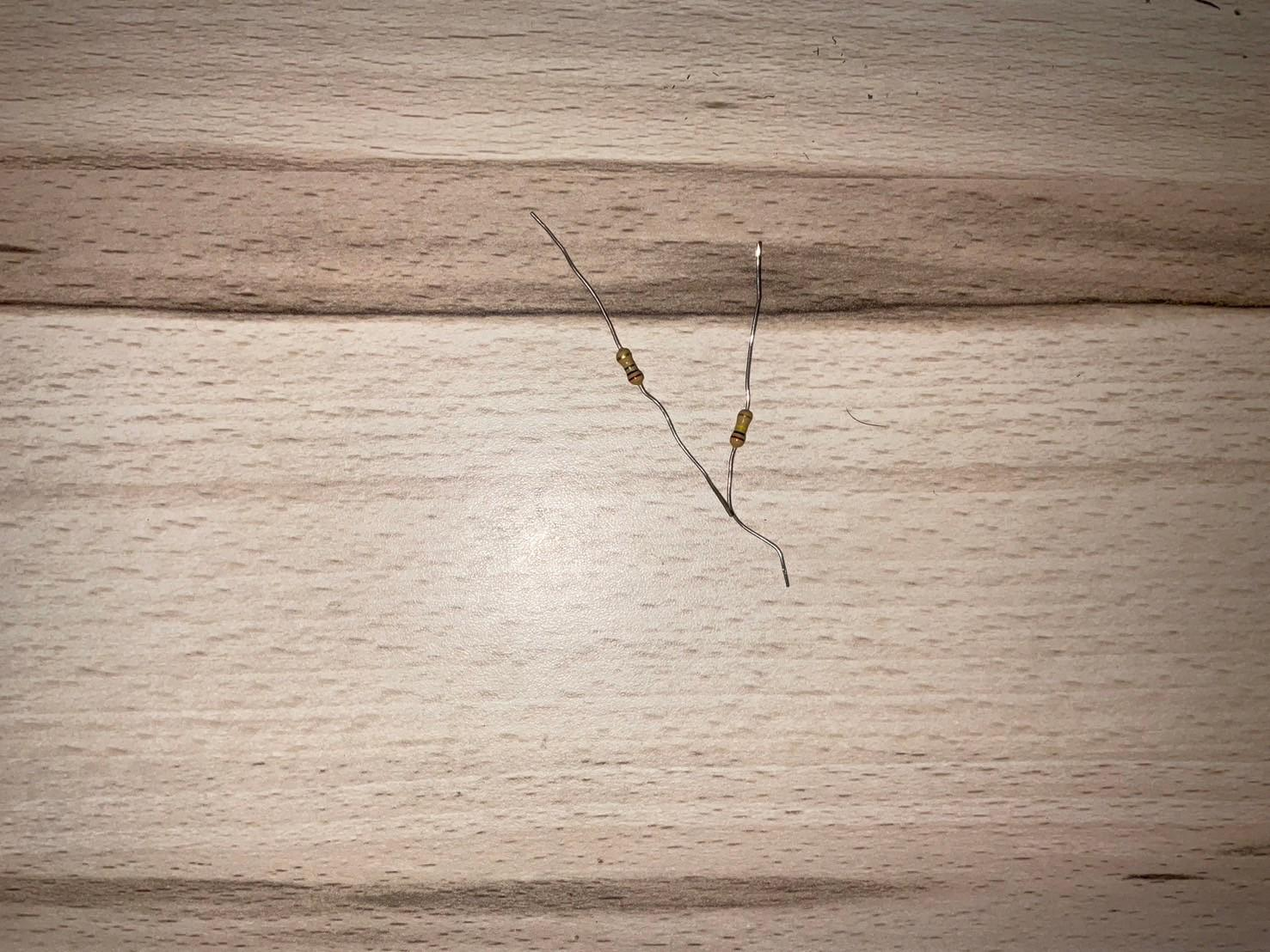resistor: (727, 407, 756, 448), (616, 348, 644, 385)
